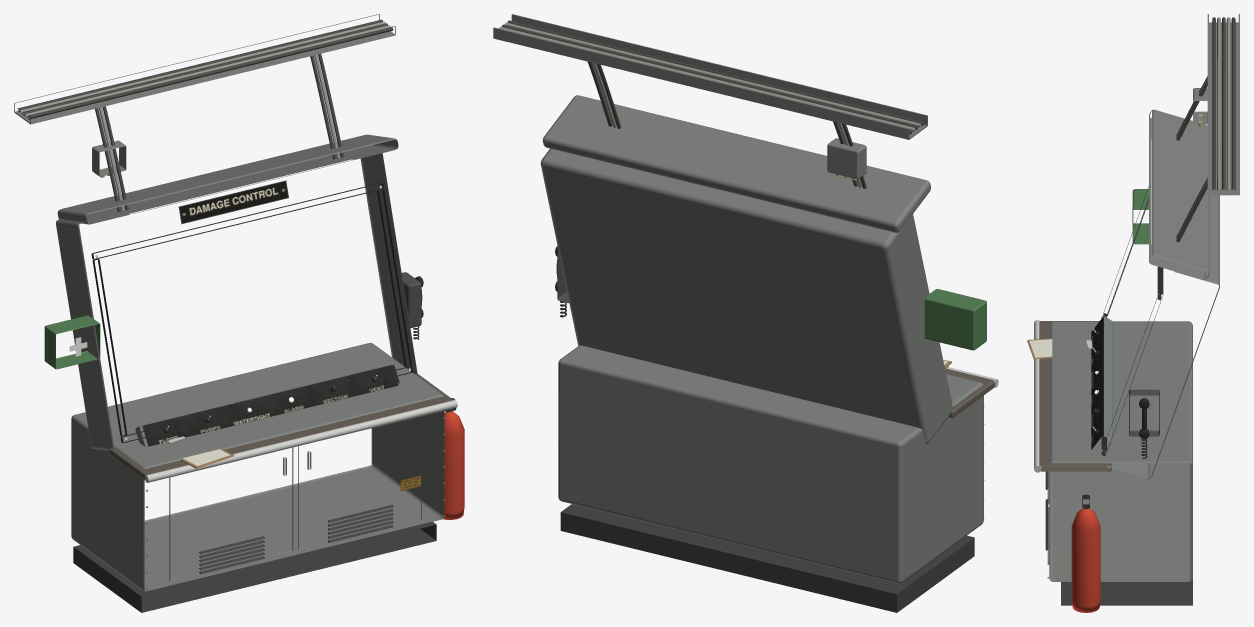
File: damage_control.glb
The picture shows the model from 3 angles, left to right: view 1: azimuth 30°, elevation 25°; view 2: azimuth 150°, elevation 25°; view 3: azimuth 270°, elevation 25°; orthographic projection. The views are drawn at different scales.
Parts seen in each view (by area): view 1: body; view 2: body; view 3: body.
Part boxes in pixels (x1,y1,x2,y2): body: (14,14,464,612); body: (493,14,998,612); body: (1027,14,1239,612).
Bounding box in the file's own units: 2.21 × 2.48 × 1.1.
Materials: 11 (4 with a texture image).
